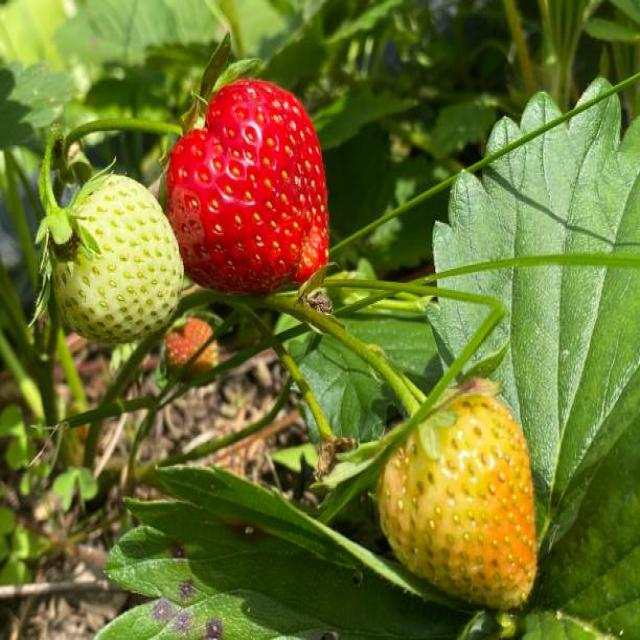Healthy Fruit: (379, 383, 537, 610), (163, 78, 329, 291), (48, 173, 184, 344)
